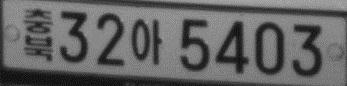0: (254, 20, 284, 74)
2: (95, 12, 125, 66)
3: (292, 23, 322, 76), (60, 10, 88, 63)
4: (214, 20, 250, 75)
5: (180, 17, 210, 71)
아: (130, 18, 162, 65)
충북_V: (23, 6, 53, 63)
